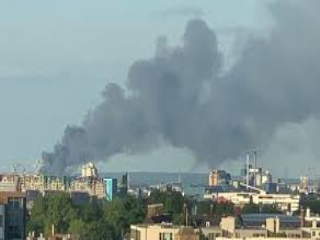smoke: (19, 36, 311, 167)
